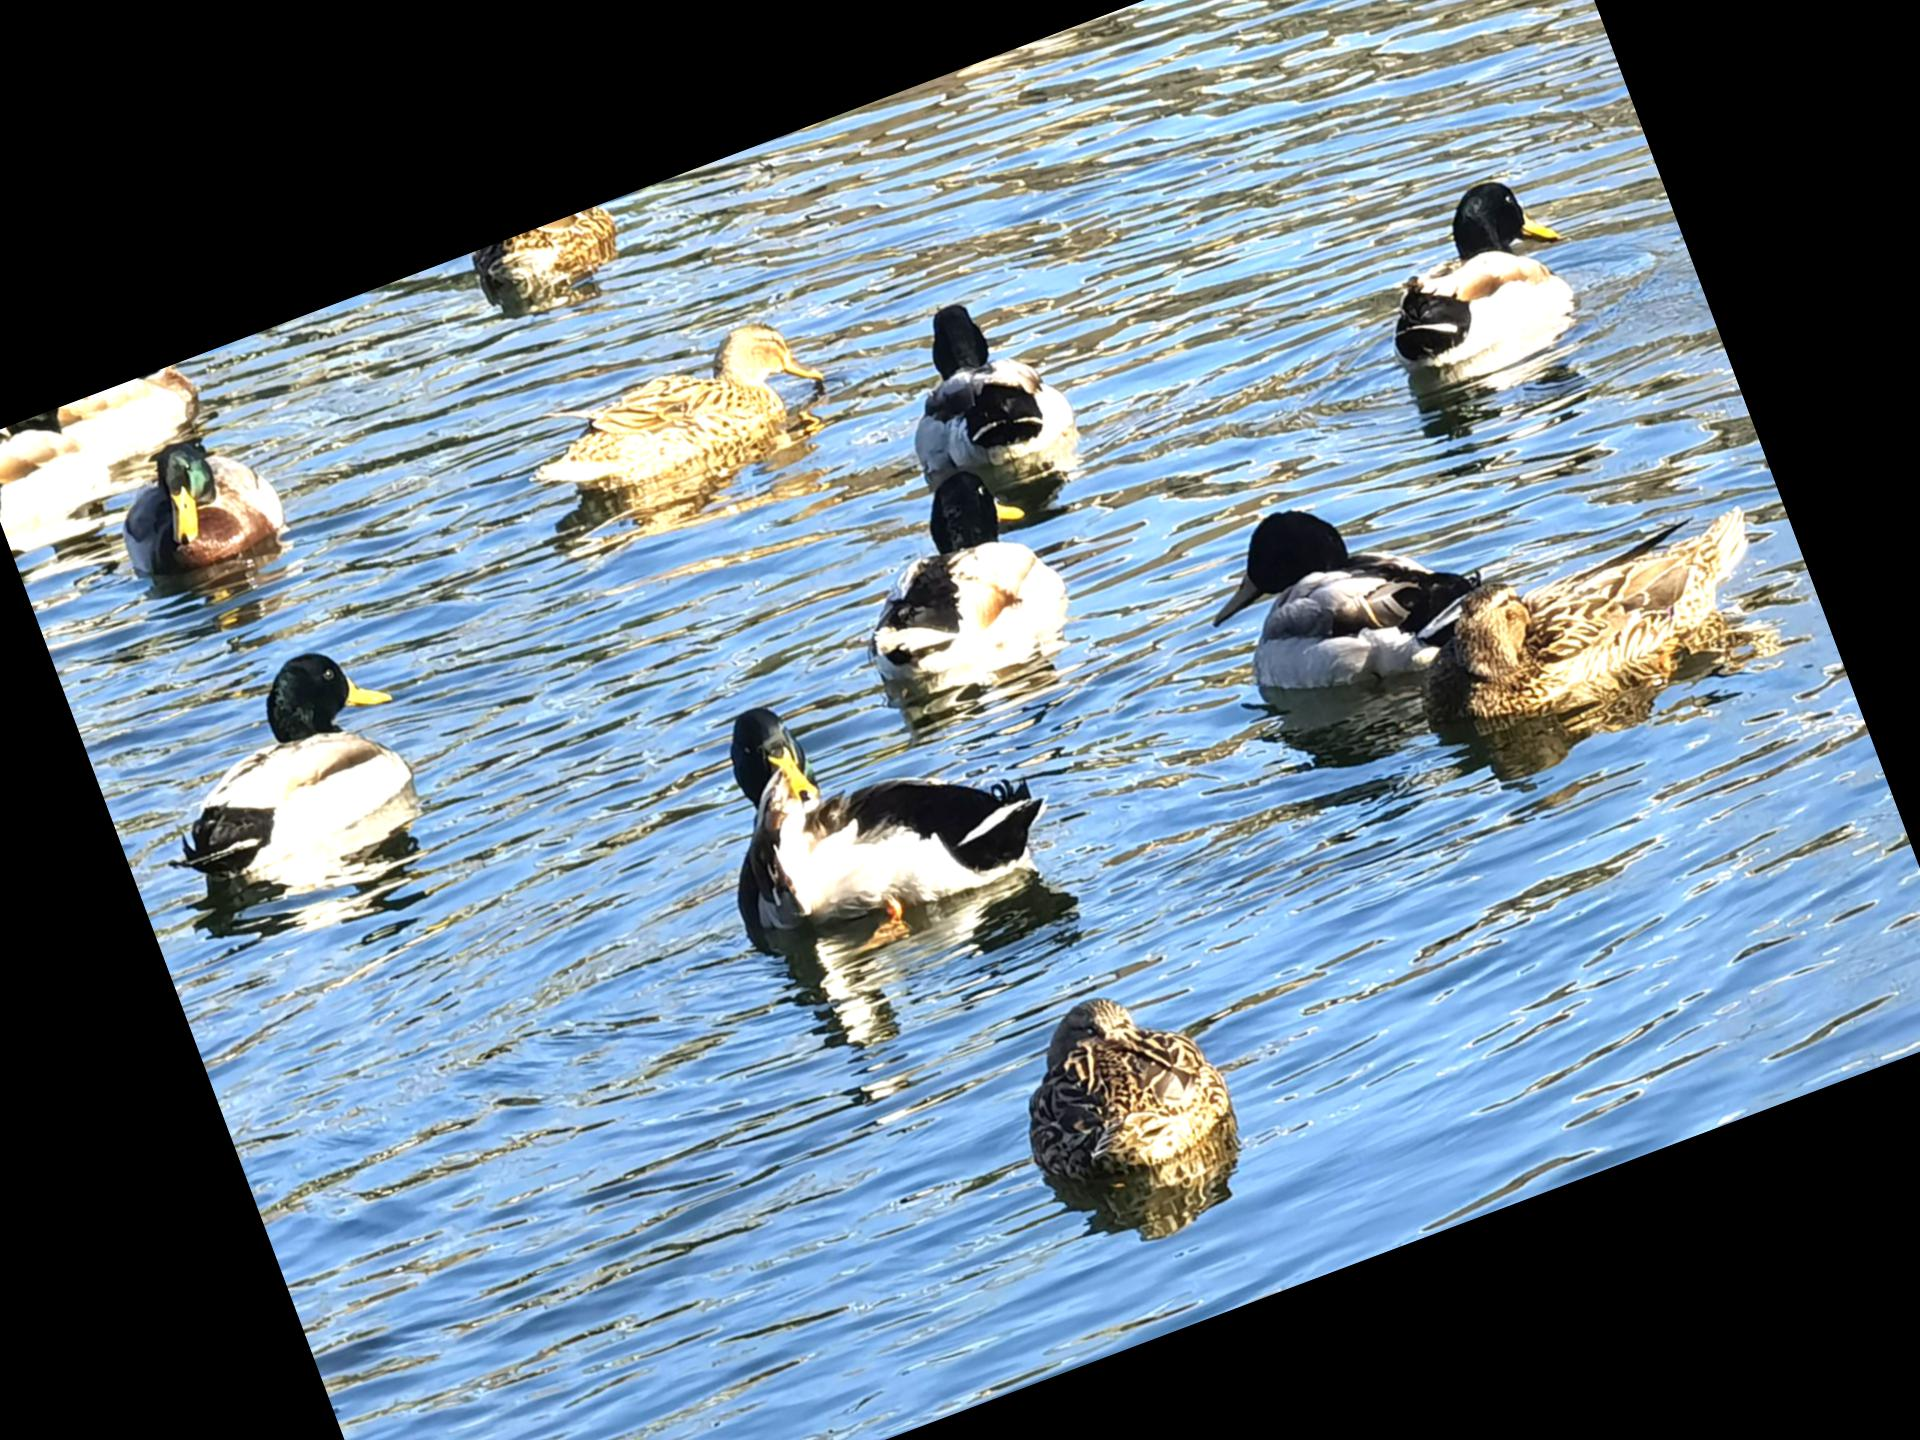duck: (655, 588, 1101, 991), (1412, 481, 1807, 771), (949, 941, 1281, 1262), (118, 614, 455, 920), (1172, 437, 1522, 726), (499, 292, 856, 535), (816, 440, 1107, 734), (1329, 148, 1607, 425), (859, 260, 1111, 554), (82, 387, 314, 610), (457, 195, 649, 325)
